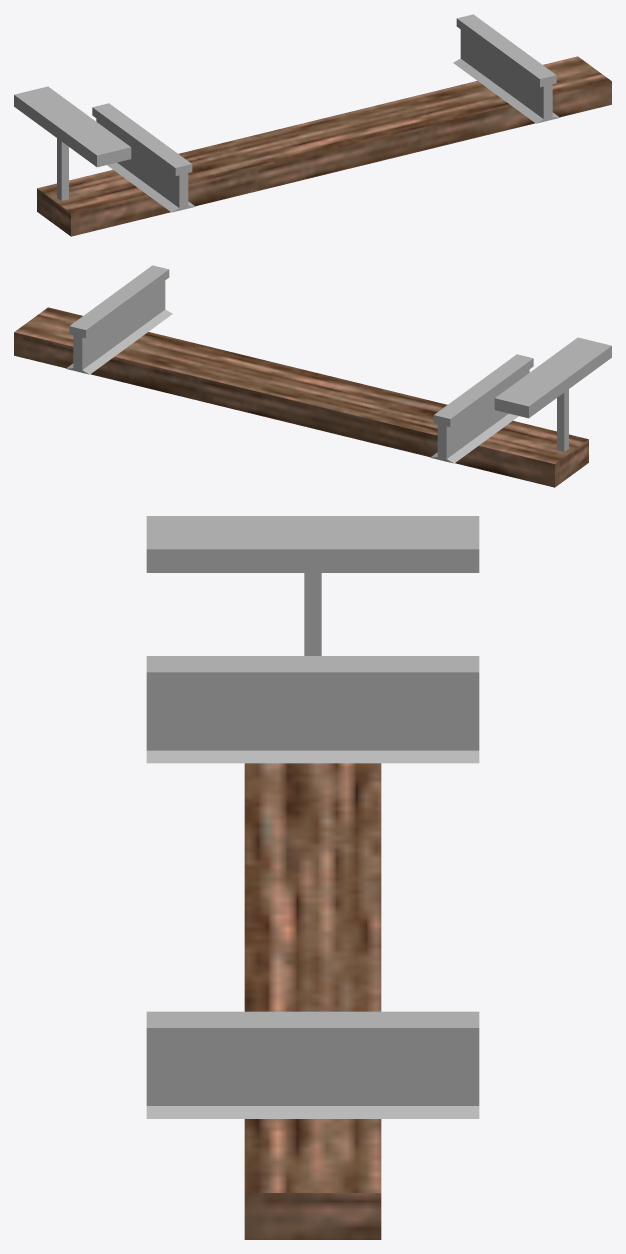
Rendered from dc_metro_rail_2_third_rail.obj.
The picture shows the model from 3 angles, top to bottom: view 1: azimuth 30°, elevation 25°; view 2: azimuth 150°, elevation 25°; view 3: azimuth 270°, elevation 25°; orthographic projection. The views are drawn at different scales.
Parts seen in each view (by area): view 1: cube; view 2: cube; view 3: cube.
Part boxes in pixels (<box>): cube: <box>14,14,611,236</box>; cube: <box>14,265,611,487</box>; cube: <box>146,516,479,1239</box>.
Size of the model in its own units: 2.23 by 0.3891 by 0.5938.
Materials: 2 (2 with a texture image).
